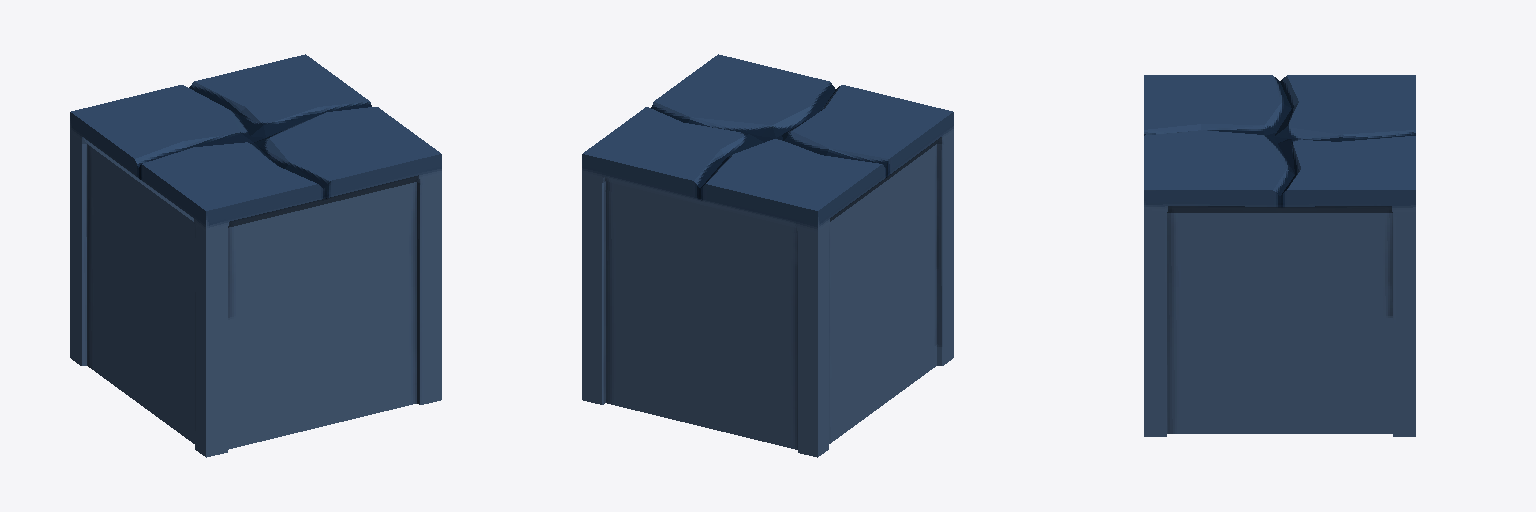
3 renders of one model, left to right at view 1: azimuth 30°, elevation 25°; view 2: azimuth 150°, elevation 25°; view 3: azimuth 270°, elevation 25°, orthographic.
Visible parts, largest first — view 1: TileV3; view 2: TileV3; view 3: TileV3.
Boxes of the visible parts, box(x1,y1,x2,y2) form: TileV3: box(70, 54, 441, 457); TileV3: box(582, 54, 953, 457); TileV3: box(1144, 75, 1415, 436).
Bounding box in the file's own units: 5 × 5 × 5.
1 materials, 1 textured.